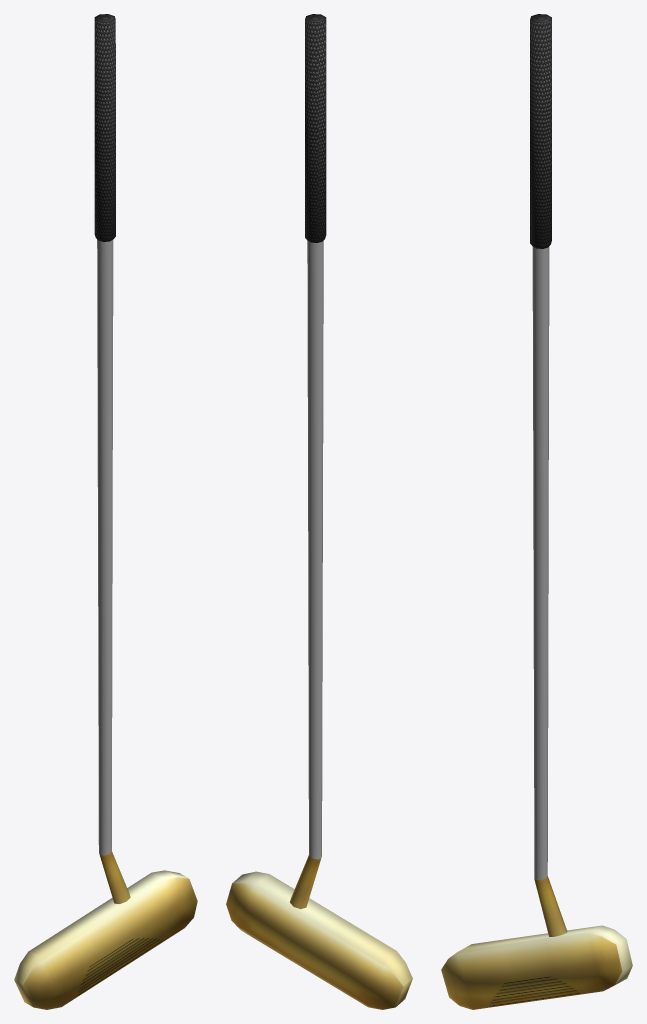
File: Putter_34_5_70.FBX
3 views of the same model, side by side, from view 1: azimuth 30°, elevation 25°; view 2: azimuth 150°, elevation 25°; view 3: azimuth 330°, elevation 25° (orthographic). The views are drawn at different scales.
Parts seen in each view (by area): view 1: Putter/34/5/70; view 2: Putter/34/5/70; view 3: Putter/34/5/70.
Part boxes in pixels (box(x1,y1,x2,y2)): Putter/34/5/70: box(14, 14, 197, 1009); Putter/34/5/70: box(226, 14, 412, 1009); Putter/34/5/70: box(441, 14, 632, 1009).
Size of the model in its own units: 6.89 by 36.4 by 1.22.
